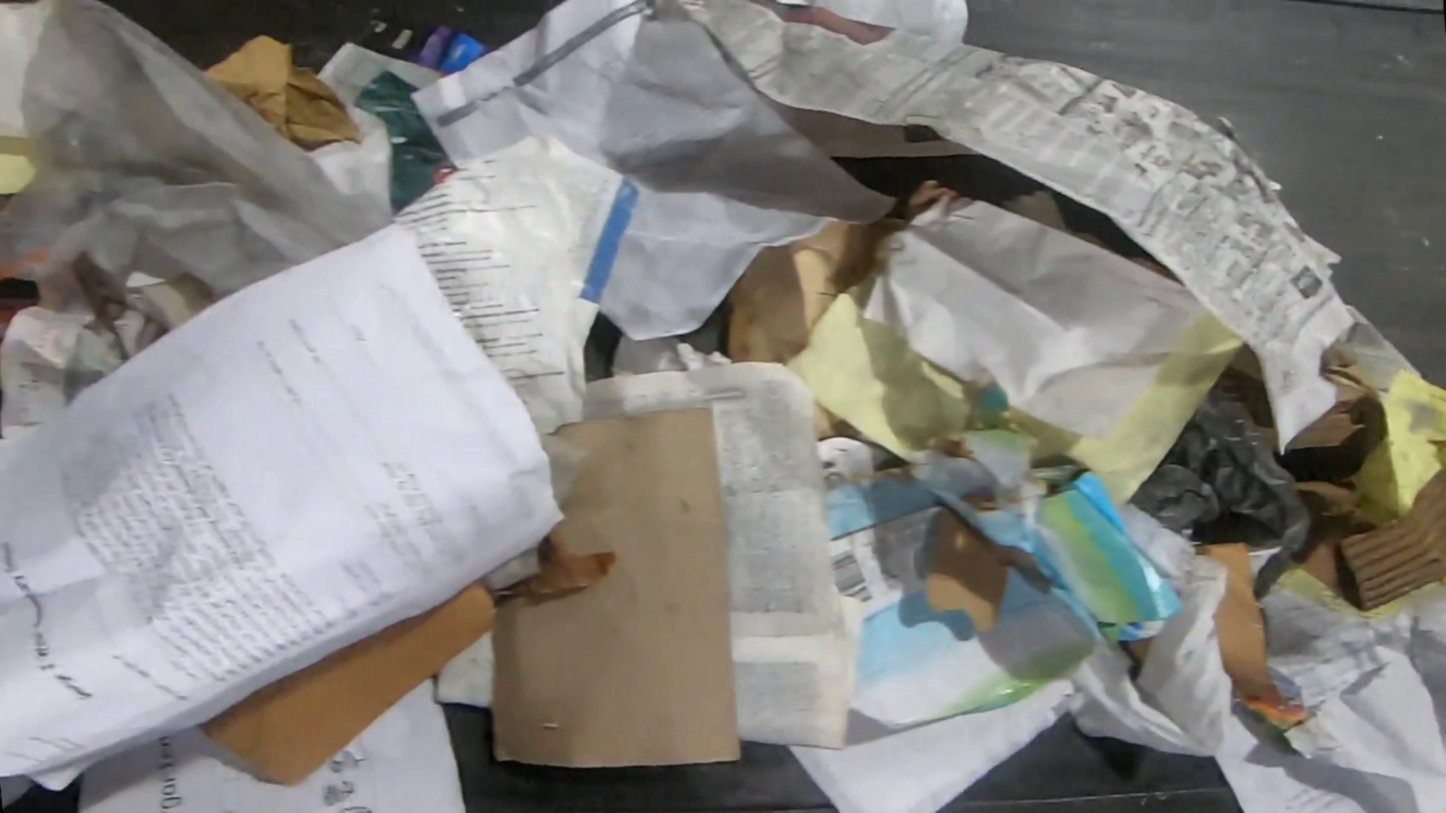cardboard: (820, 424, 1188, 731), (489, 405, 749, 769), (193, 576, 497, 789), (1279, 335, 1446, 612), (721, 178, 967, 366), (1188, 540, 1318, 737), (199, 31, 366, 154), (1219, 341, 1279, 457), (815, 402, 860, 442)
plastic: (0, 0, 394, 305), (1126, 378, 1321, 601)
